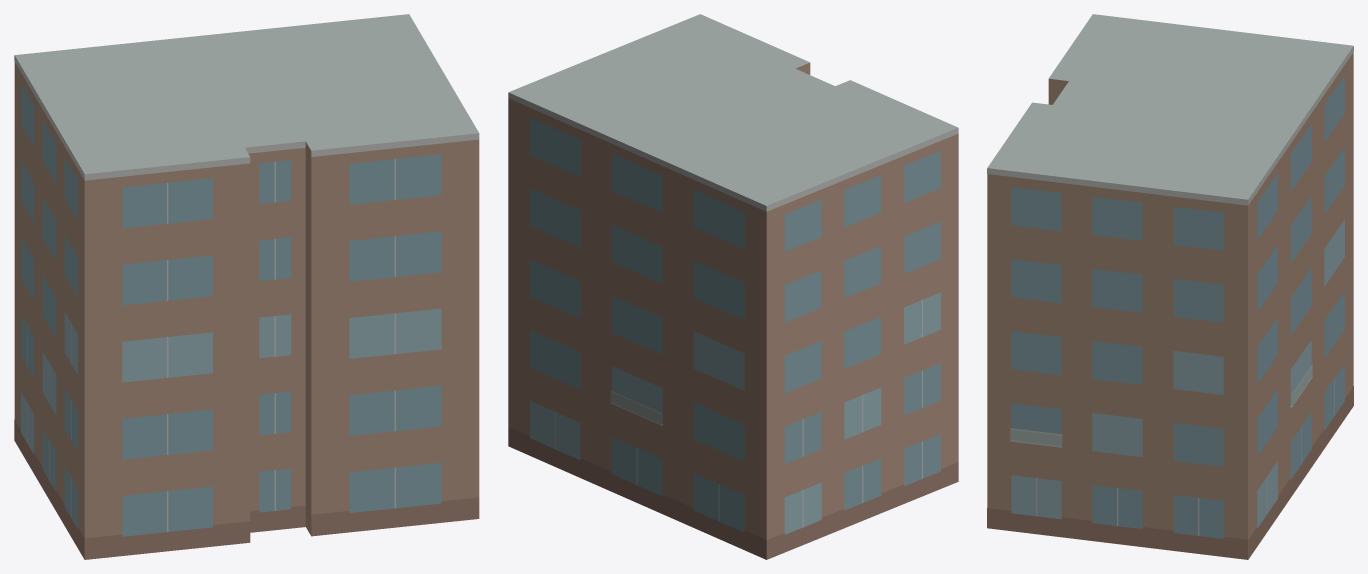
The model's file is survey-upis-32619994.glb.
The picture shows the model from 3 angles, left to right: view 1: azimuth 30°, elevation 25°; view 2: azimuth 150°, elevation 25°; view 3: azimuth 270°, elevation 25°; orthographic projection. The views are drawn at different scales.
Parts seen in each view (by area): view 1: survey-upis-32619994.tmp; view 2: survey-upis-32619994.tmp; view 3: survey-upis-32619994.tmp.
Part boxes in pixels (left/top/right/bottom): survey-upis-32619994.tmp: left=14, top=14, right=479, bottom=559; survey-upis-32619994.tmp: left=508, top=14, right=958, bottom=559; survey-upis-32619994.tmp: left=987, top=14, right=1353, bottom=559.
Size of the model in its own units: 16.55 by 14.95 by 13.81.
